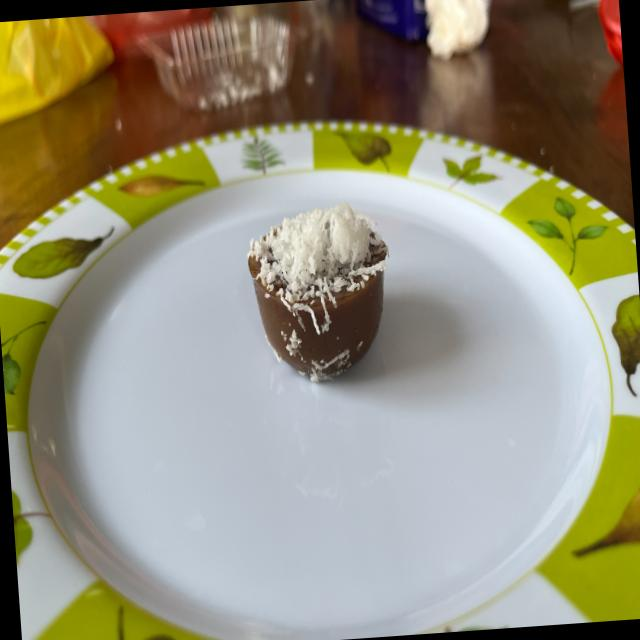Kuih lompang: (248, 202, 388, 381)
